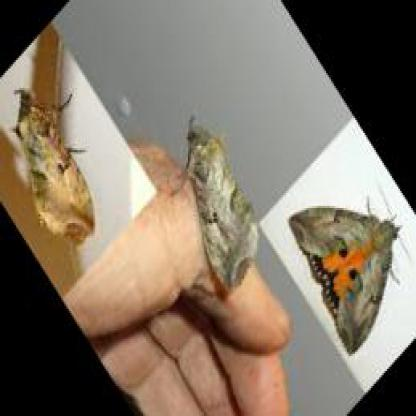fruit sucking moth: (285, 209, 398, 360)
